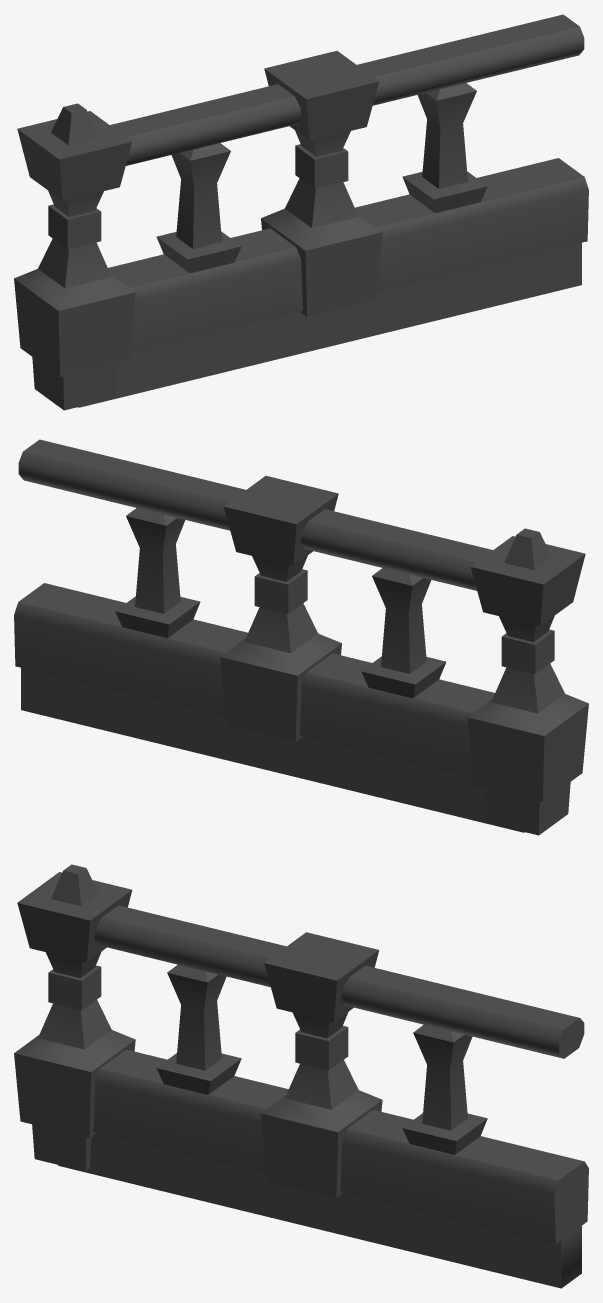
Rendered from Railing_02v2_1Pillar.fbx.
The picture shows the model from 3 angles, top to bottom: view 1: azimuth 30°, elevation 25°; view 2: azimuth 150°, elevation 25°; view 3: azimuth 330°, elevation 25°; orthographic projection.
Visible parts, largest first — view 1: Railing_Short_2Pillars.003; view 2: Railing_Short_2Pillars.003; view 3: Railing_Short_2Pillars.003.
Boxes of the visible parts, box(x1,y1,x2,y2) form: Railing_Short_2Pillars.003: box(14, 14, 588, 410); Railing_Short_2Pillars.003: box(14, 439, 588, 835); Railing_Short_2Pillars.003: box(14, 864, 588, 1288).
Bounding box in the file's own units: 266 × 138 × 38.26.
